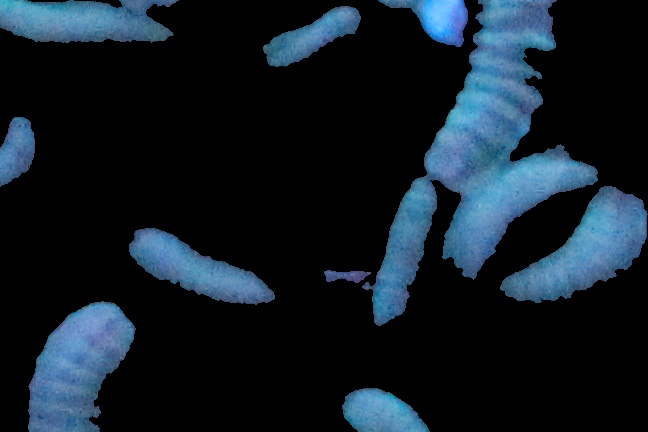larvae: (424, 1, 556, 188), (440, 148, 601, 279), (501, 184, 647, 300), (27, 302, 135, 432), (126, 223, 277, 303), (368, 173, 436, 325), (1, 1, 177, 54), (257, 7, 362, 66), (335, 383, 440, 432), (1, 114, 39, 203)
